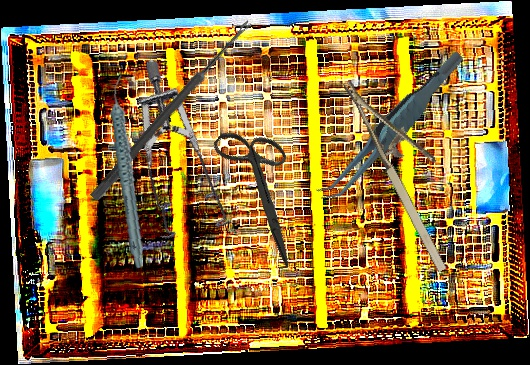Handpiece: (93, 73, 165, 270)
Iris Scissors: (180, 112, 344, 269)
Needle Holder: (342, 61, 480, 276)
Speculum: (96, 58, 272, 257)
Surgical Spoon: (89, 17, 254, 203)
Tissue Forceps: (294, 49, 489, 207)
